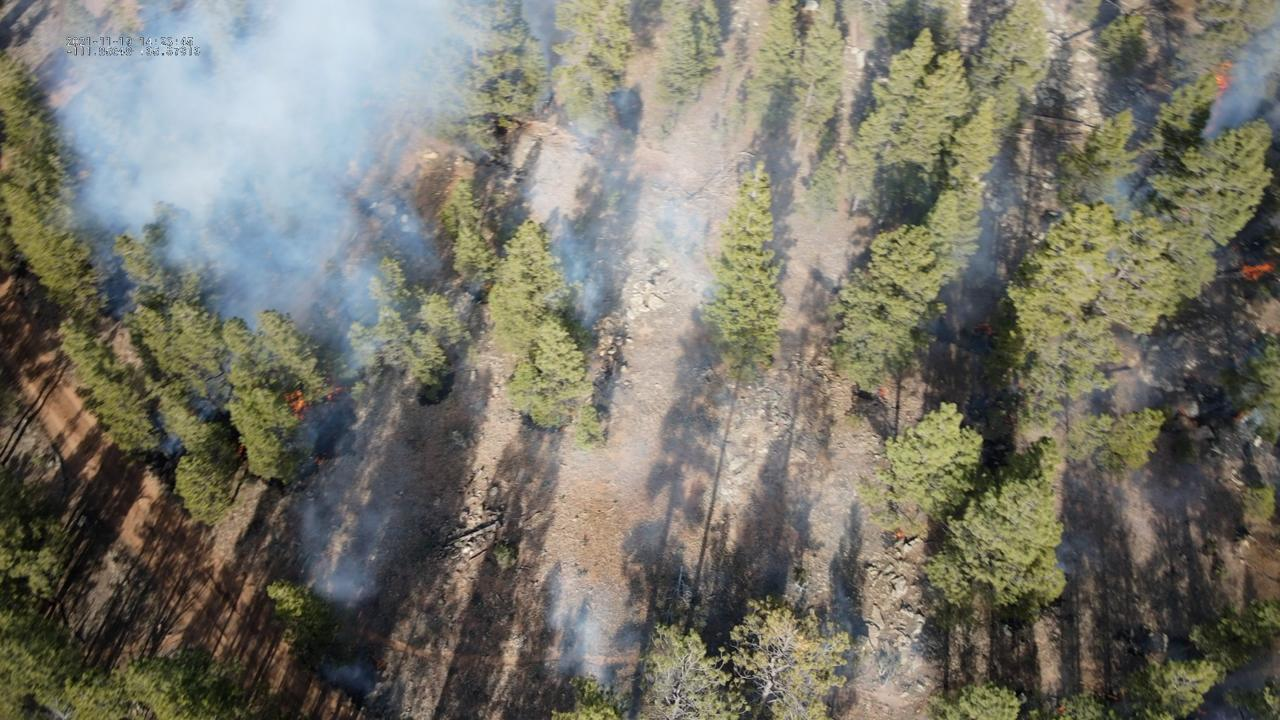fire: (1213, 57, 1235, 107), (284, 386, 312, 420), (1239, 261, 1272, 284), (970, 320, 994, 339), (326, 385, 344, 401), (890, 527, 904, 543), (238, 442, 244, 455)
smoke: (45, 0, 741, 462), (918, 151, 1016, 349), (1194, 0, 1280, 146), (293, 495, 385, 614), (544, 566, 612, 692), (1099, 176, 1151, 223), (317, 662, 376, 697)
